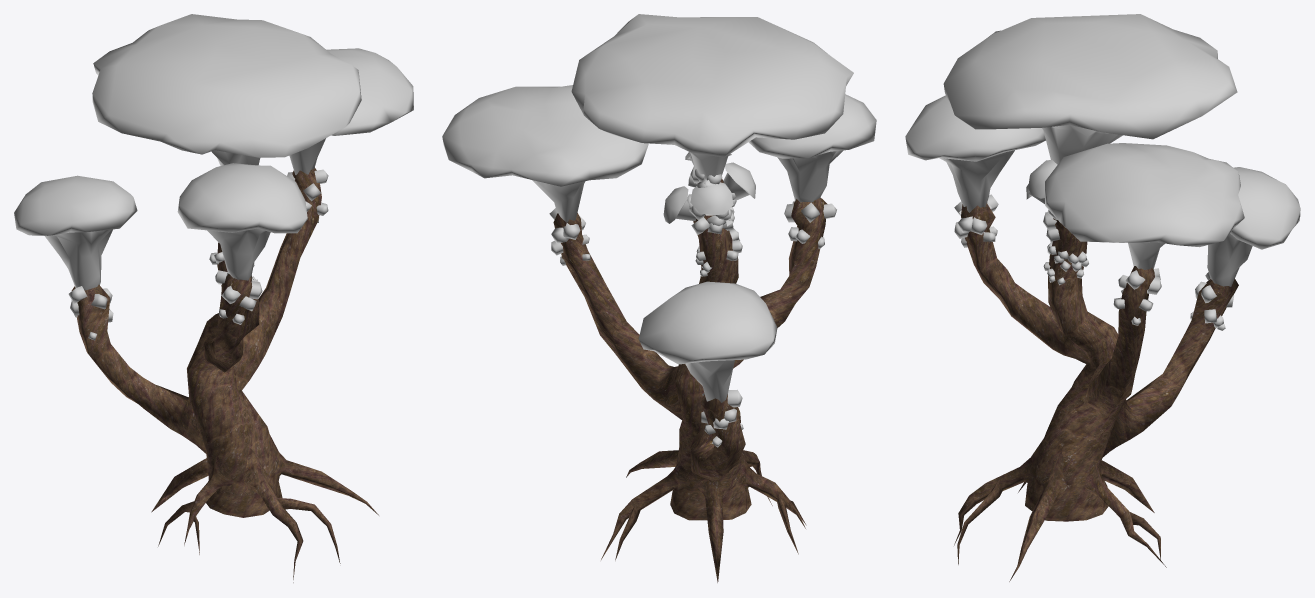
File: Shrooomtree_3_L3.fbx
3 views of the same model, side by side, from view 1: azimuth 30°, elevation 25°; view 2: azimuth 150°, elevation 25°; view 3: azimuth 270°, elevation 25° (orthographic). The views are drawn at different scales.
Parts seen in each view (by area): view 1: polySurface167; view 2: polySurface167; view 3: polySurface167.
Part boxes in pixels (bbox=[...]): polySurface167: bbox=[14, 14, 413, 582]; polySurface167: bbox=[442, 14, 876, 582]; polySurface167: bbox=[905, 14, 1300, 581].
Size of the model in its own units: 799 by 1096 by 785.
